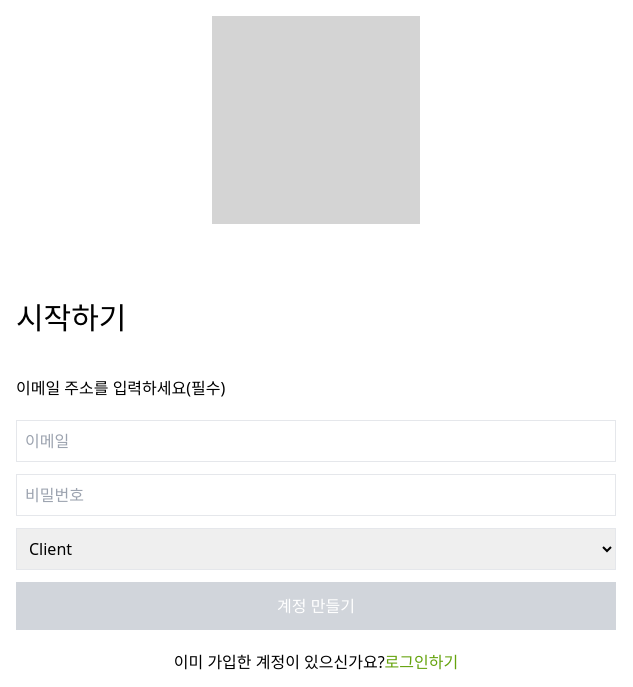
Test: <CreateAccount/> › display the email validation error
Type "email@no" into the field with placeholder "이메일" at (316, 441), box [16, 420, 616, 462]
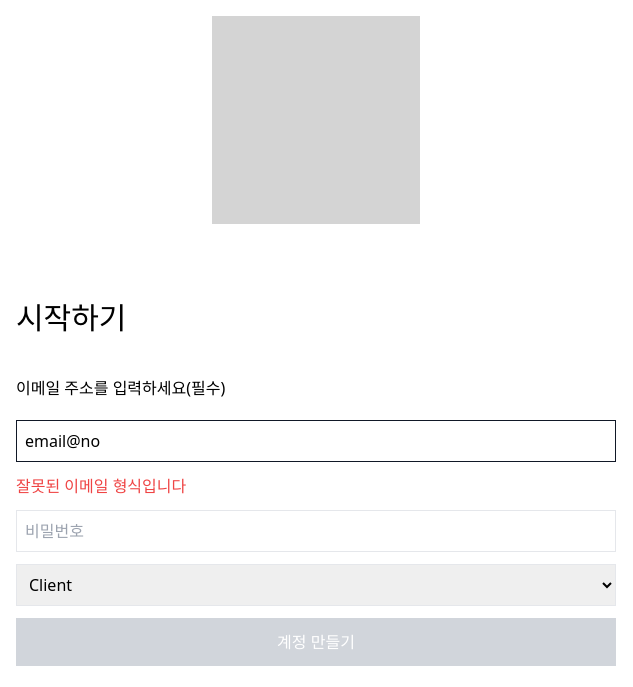
Check: the message reads "잘못된 이메일 형식입니다", box [16, 475, 186, 497]
Clear the field with placeholder "이메일" at (316, 441), box [16, 420, 616, 462]
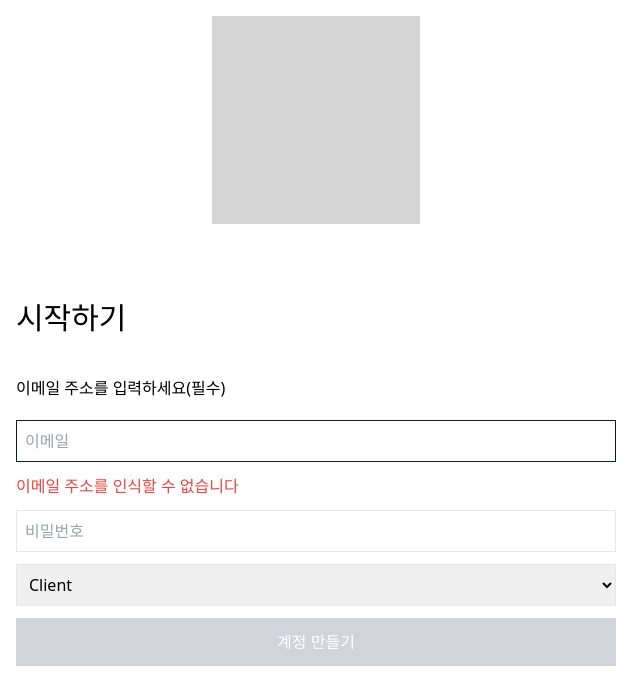
Check: the message reads "이메일 주소를 인식할 수 없습니다", box [16, 475, 239, 497]
